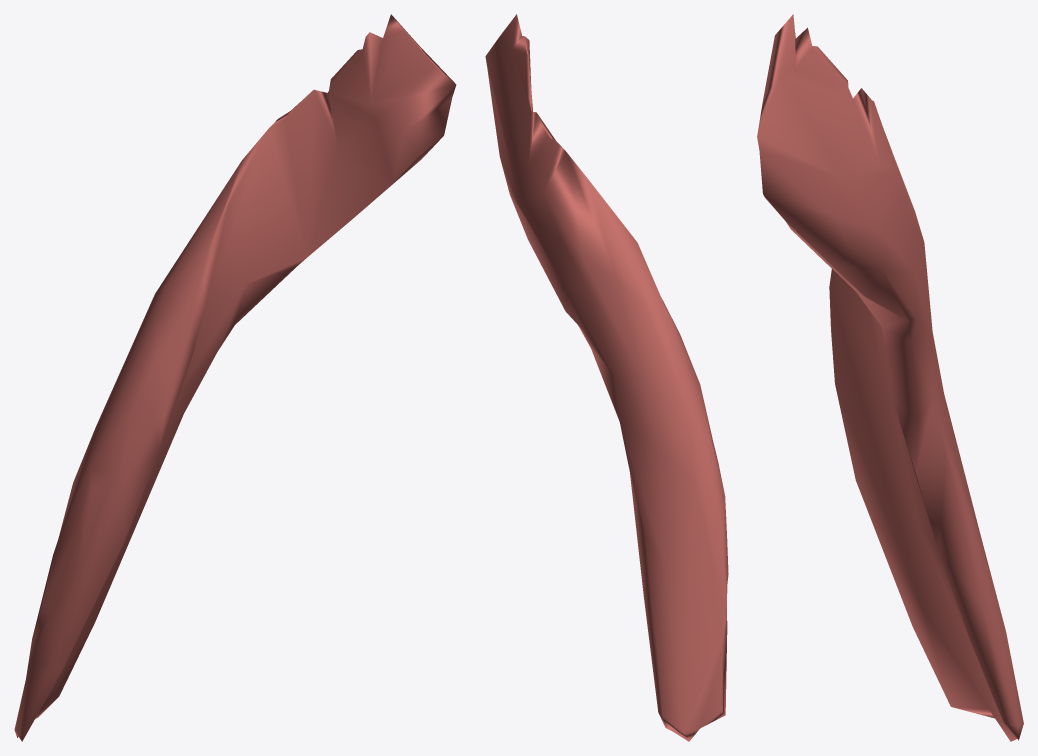
The picture shows the model from 3 angles, left to right: view 1: azimuth 30°, elevation 25°; view 2: azimuth 150°, elevation 25°; view 3: azimuth 270°, elevation 25°; orthographic projection. The views are drawn at different scales.
Visible parts, largest first — view 1: 右侧小趾对跖肌; view 2: 右侧小趾对跖肌; view 3: 右侧小趾对跖肌.
Boxes of the visible parts, x1=… form: 右侧小趾对跖肌: x1=14, y1=14, x2=456, y2=741; 右侧小趾对跖肌: x1=485, y1=14, x2=728, y2=741; 右侧小趾对跖肌: x1=757, y1=14, x2=1023, y2=741.
Bounding box in the file's own units: 0.0333 × 0.0638 × 0.017.
